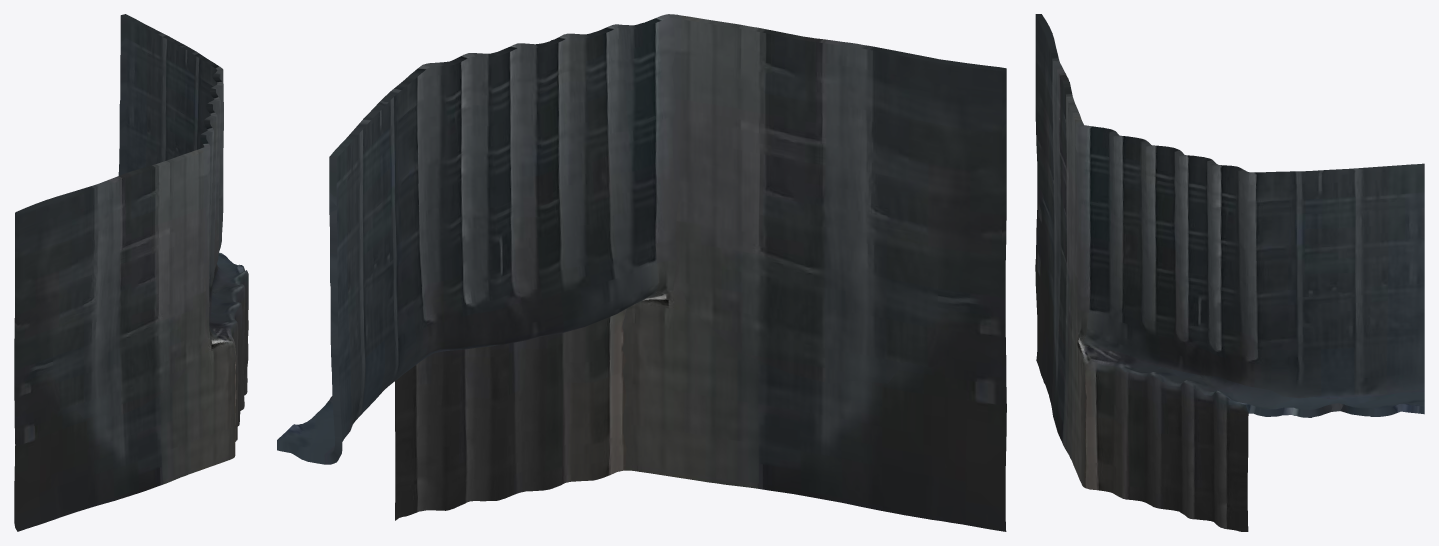
Rendered from z20-167762-405235-h1-yup-uvflip-v3-world.glb.
3 views of the same model, side by side, from view 1: azimuth 30°, elevation 25°; view 2: azimuth 150°, elevation 25°; view 3: azimuth 270°, elevation 25° (orthographic). The views are drawn at different scales.
Size of the model in its own units: 30.16 by 28.44 by 28.96.
1 material, 1 textured.
